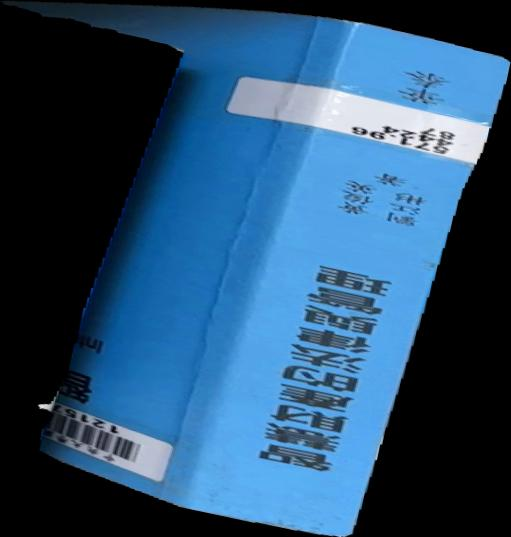reverse: (1, 1, 511, 537)
